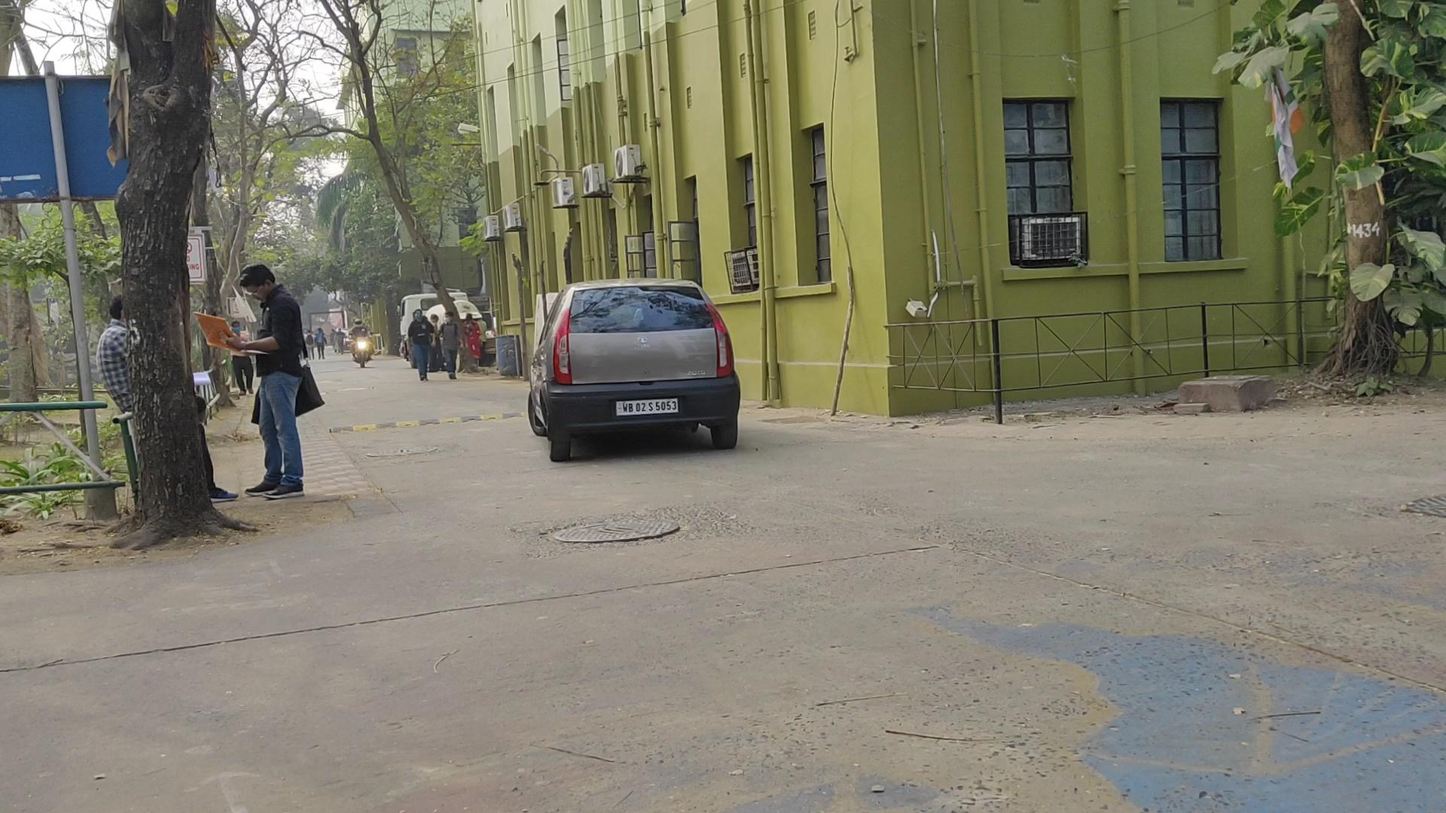bike: (343, 317, 376, 370)
car: (526, 278, 742, 463)
